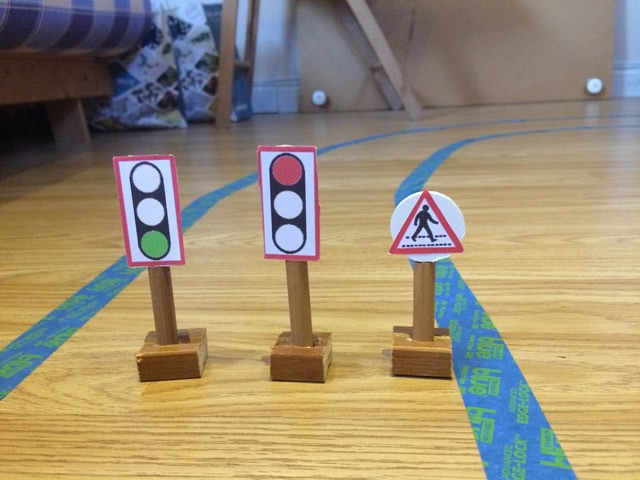Green Traffic Light: (111, 152, 187, 264)
Person Crossing: (388, 191, 465, 261)
Red Traffic Light: (258, 146, 321, 262)
